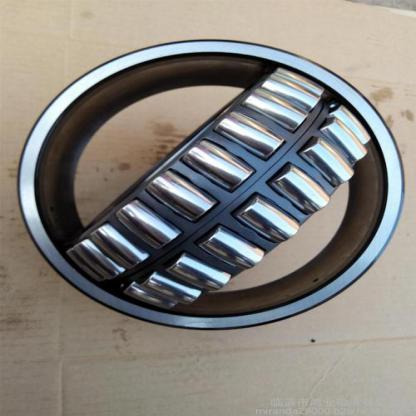FOD: (13, 31, 407, 335)
